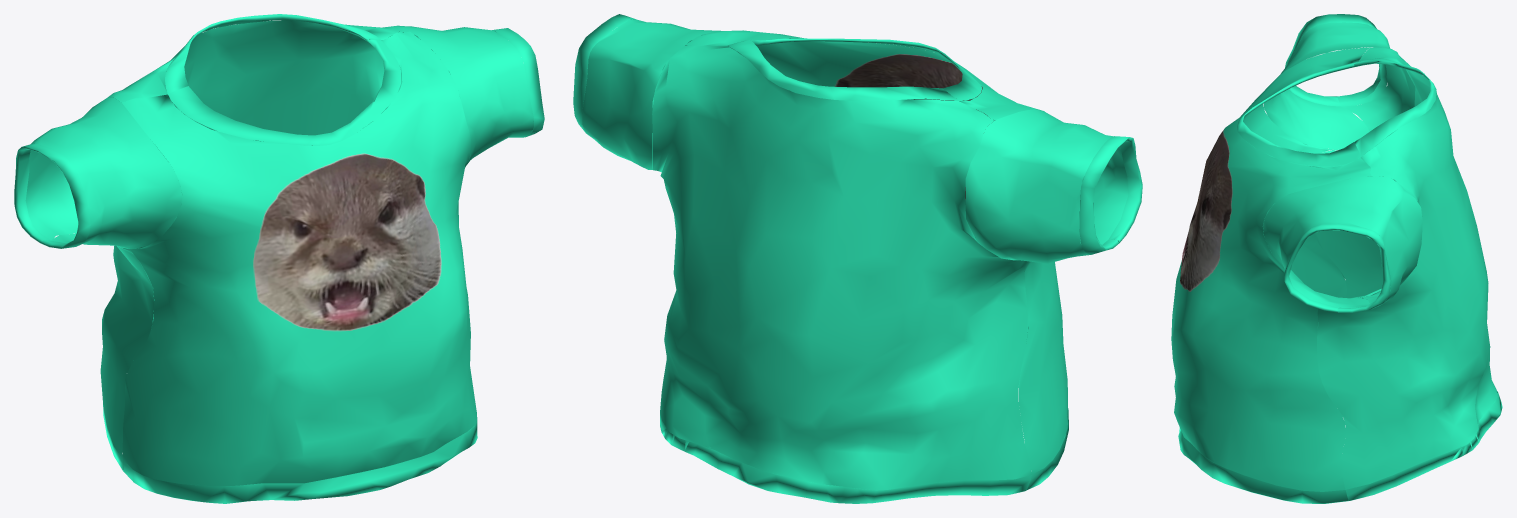
The model's file is T-Shirt-Meme.glb.
3 views of the same model, side by side, from view 1: azimuth 30°, elevation 25°; view 2: azimuth 150°, elevation 25°; view 3: azimuth 270°, elevation 25° (orthographic). The views are drawn at different scales.
Visible parts, largest first — view 1: T-Shirt-Meme; view 2: T-Shirt-Meme; view 3: T-Shirt-Meme.
Part boxes in pixels (<box>): T-Shirt-Meme: <box>14,14,544,503</box>; T-Shirt-Meme: <box>573,14,1142,503</box>; T-Shirt-Meme: <box>1171,14,1502,503</box>.
Bounding box in the file's own units: 0.5125 × 0.384 × 0.3311.
Materials: 1 (1 with a texture image).
